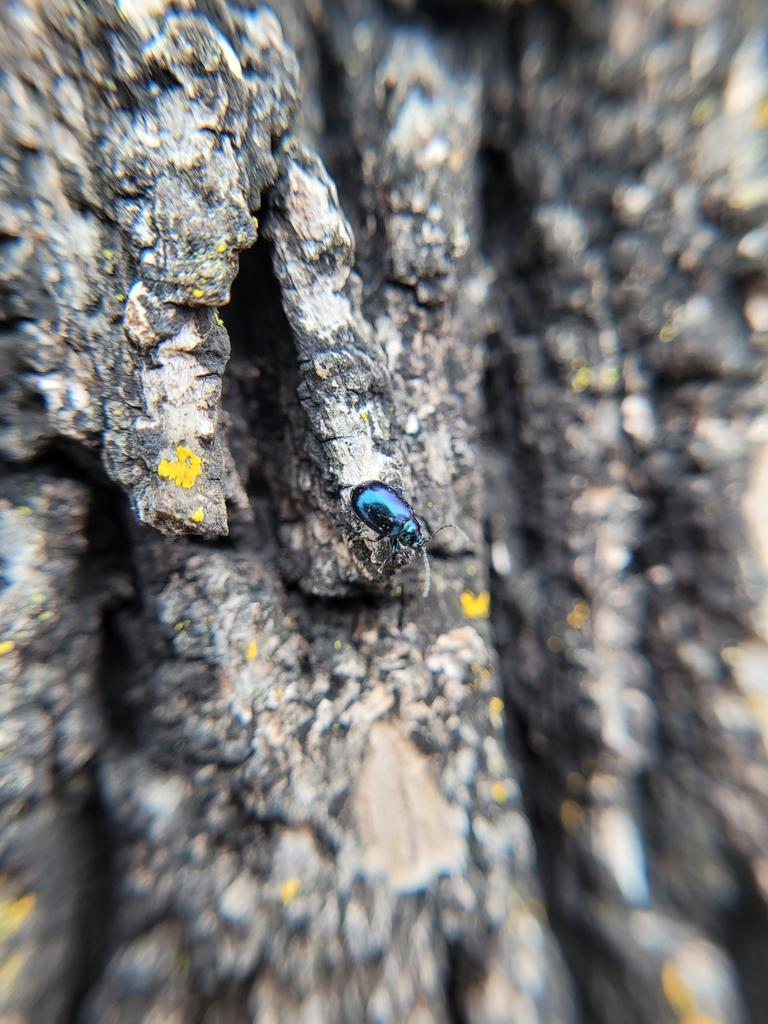flea_beetle: (335, 445, 456, 572)
